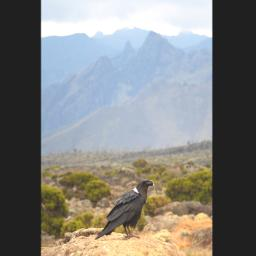Crow: (93, 178, 155, 243)
